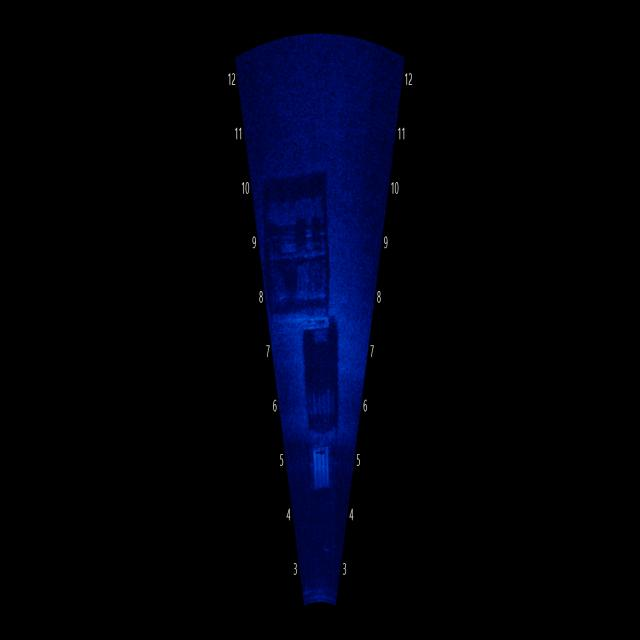square: (260, 155, 340, 333), (292, 332, 351, 504)
